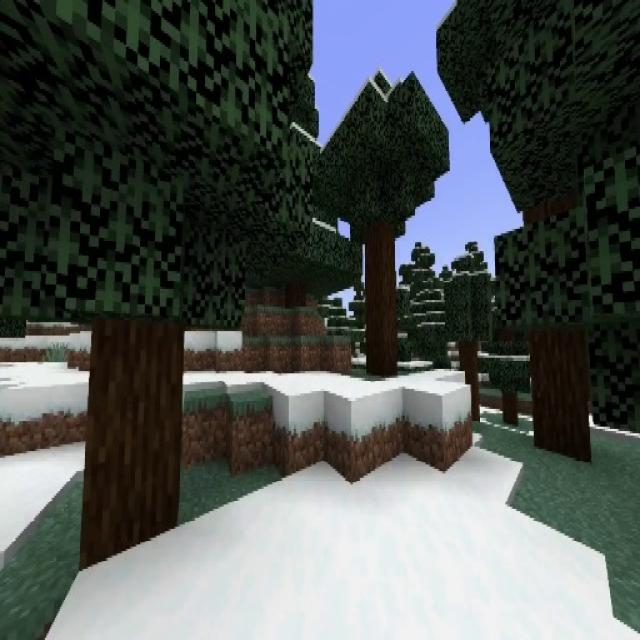spruce: (0, 0, 314, 584), (329, 74, 444, 378), (448, 257, 492, 420), (485, 280, 532, 428)
spruce_log: (80, 318, 180, 571), (531, 328, 590, 466), (366, 238, 398, 376), (460, 341, 478, 419), (288, 279, 306, 311), (503, 394, 518, 424)
